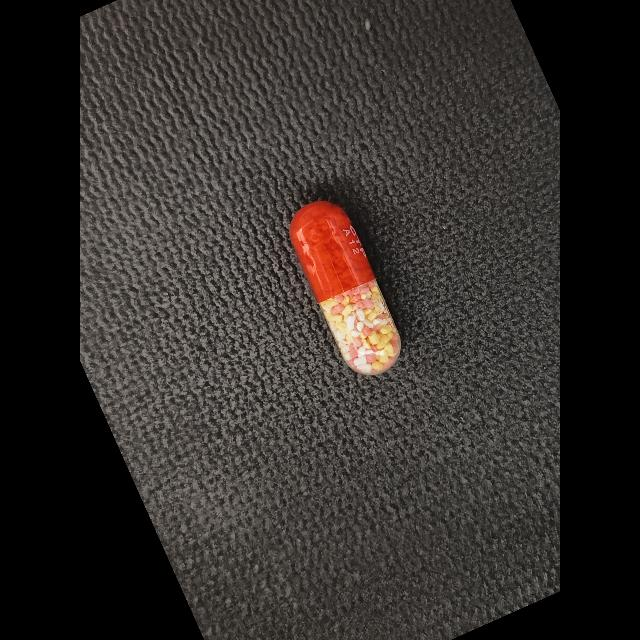Intact Capsule: (290, 201, 401, 375)
